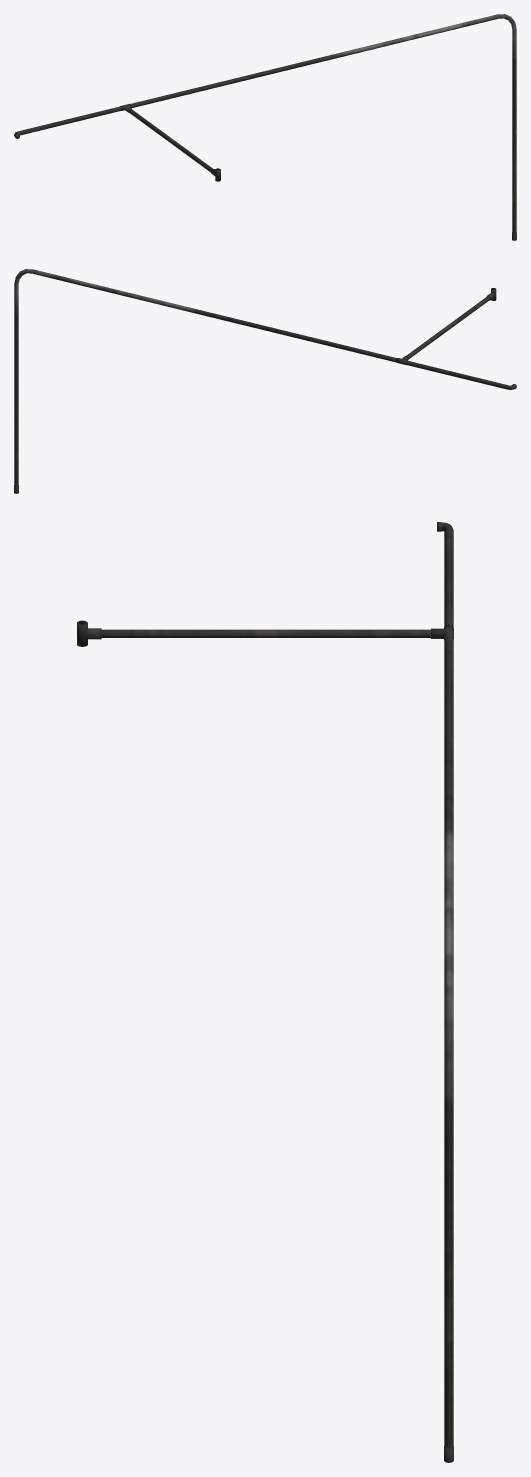
File: FireRail.glb
The picture shows the model from 3 angles, top to bottom: view 1: azimuth 30°, elevation 25°; view 2: azimuth 150°, elevation 25°; view 3: azimuth 270°, elevation 25°; orthographic projection. The views are drawn at different scales.
Parts seen in each view (by area): view 1: modular_fire_escape_platform_railing; view 2: modular_fire_escape_platform_railing; view 3: modular_fire_escape_platform_railing.
Boxes of the visible parts, <box> form: modular_fire_escape_platform_railing: <box>14,14,516,240</box>; modular_fire_escape_platform_railing: <box>14,269,516,493</box>; modular_fire_escape_platform_railing: <box>77,522,453,1462</box>.
Bounding box in the file's own units: 2.23 × 0.9857 × 0.7304.
1 material, 1 textured.
